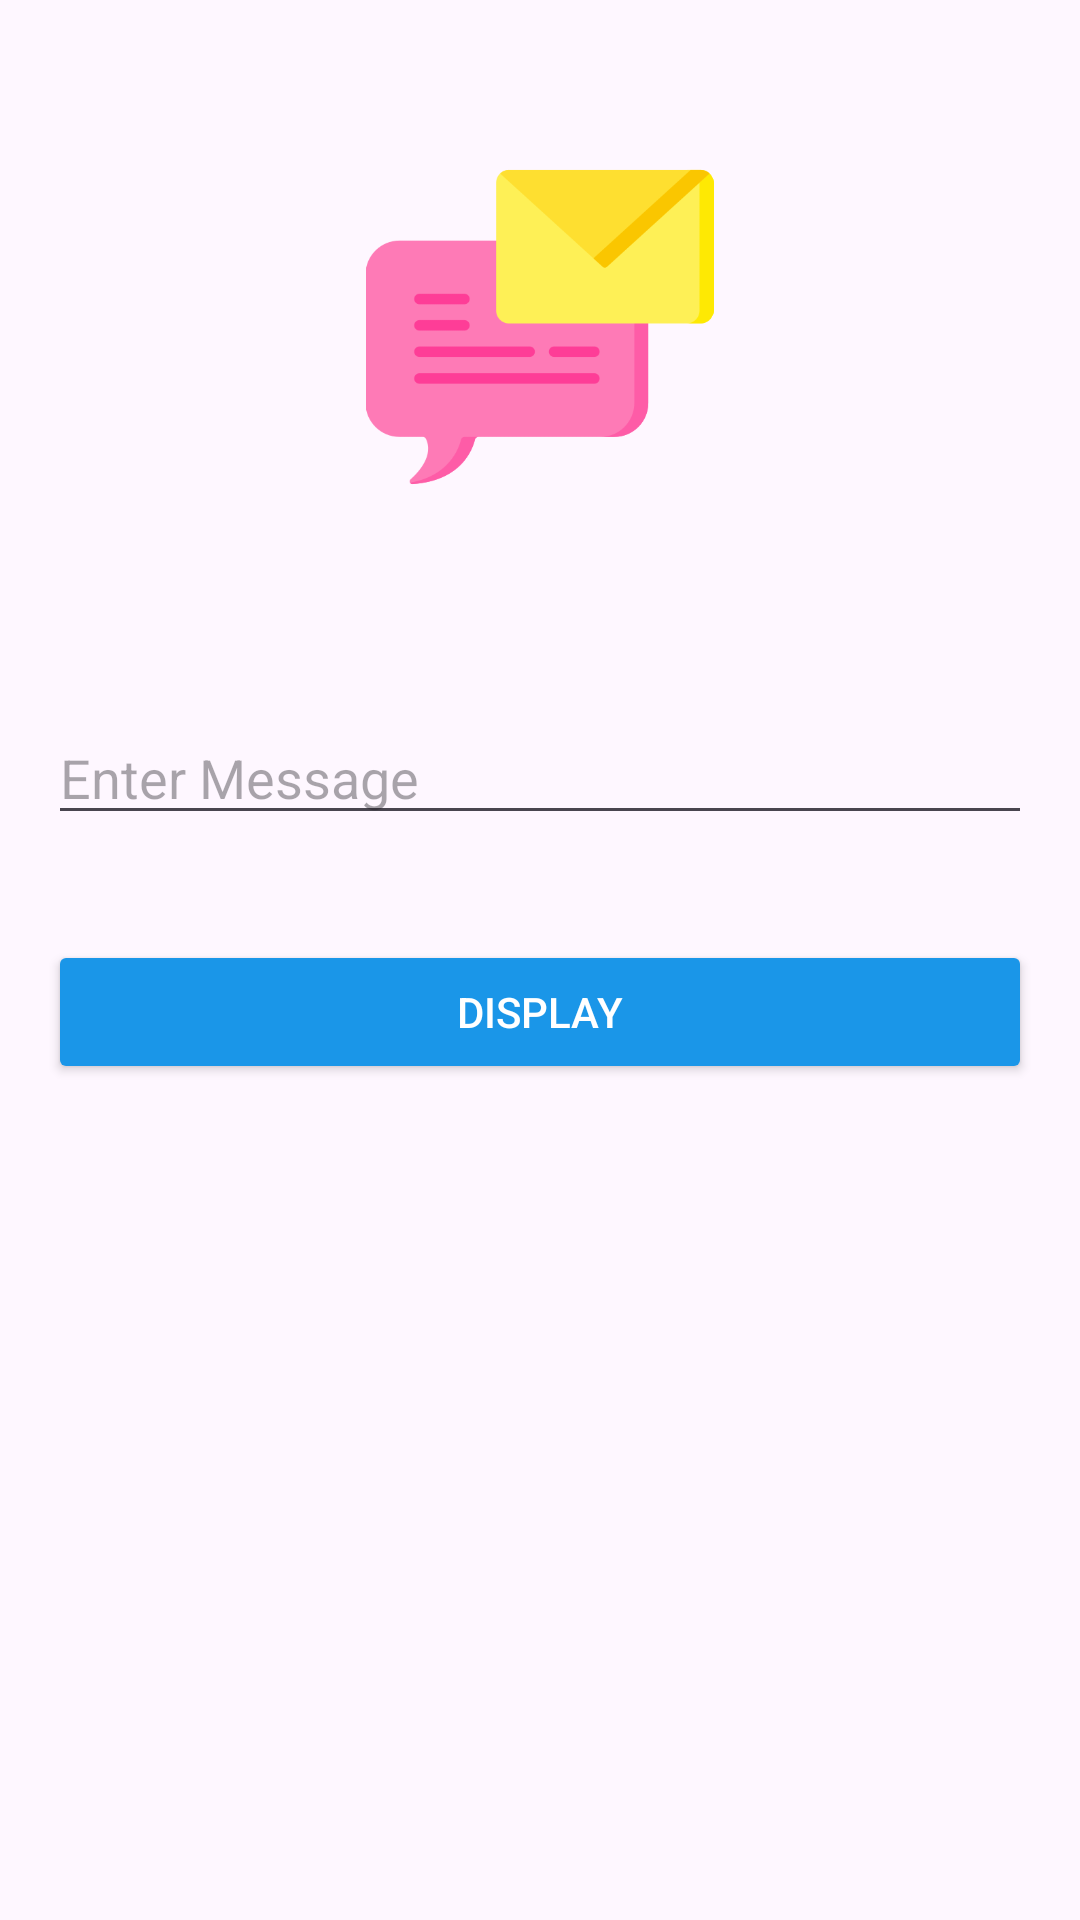

Point at icon controls on the screen. Image size 1080*1920, points as [x,y].
message: [540,326]
